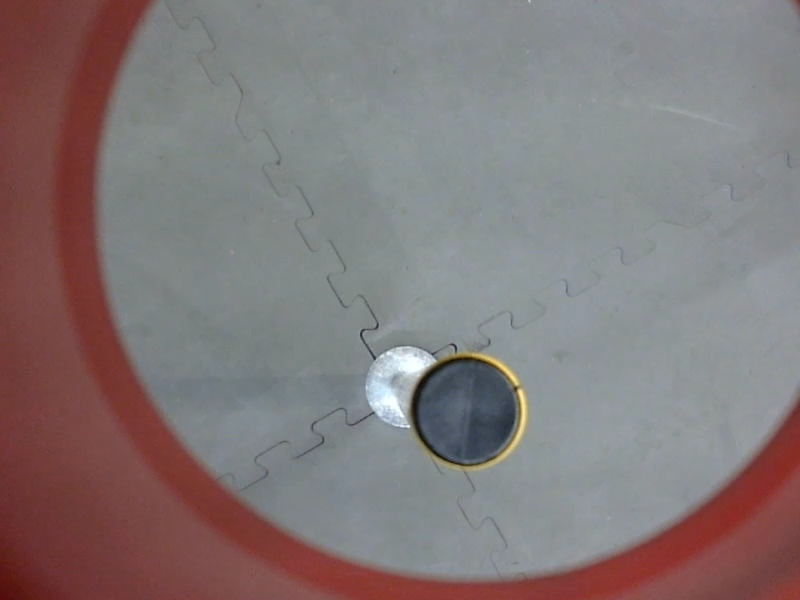tip: (398, 344, 537, 475)
